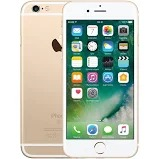iphone: (62, 1, 139, 159)
iphone6: (61, 1, 138, 159)
